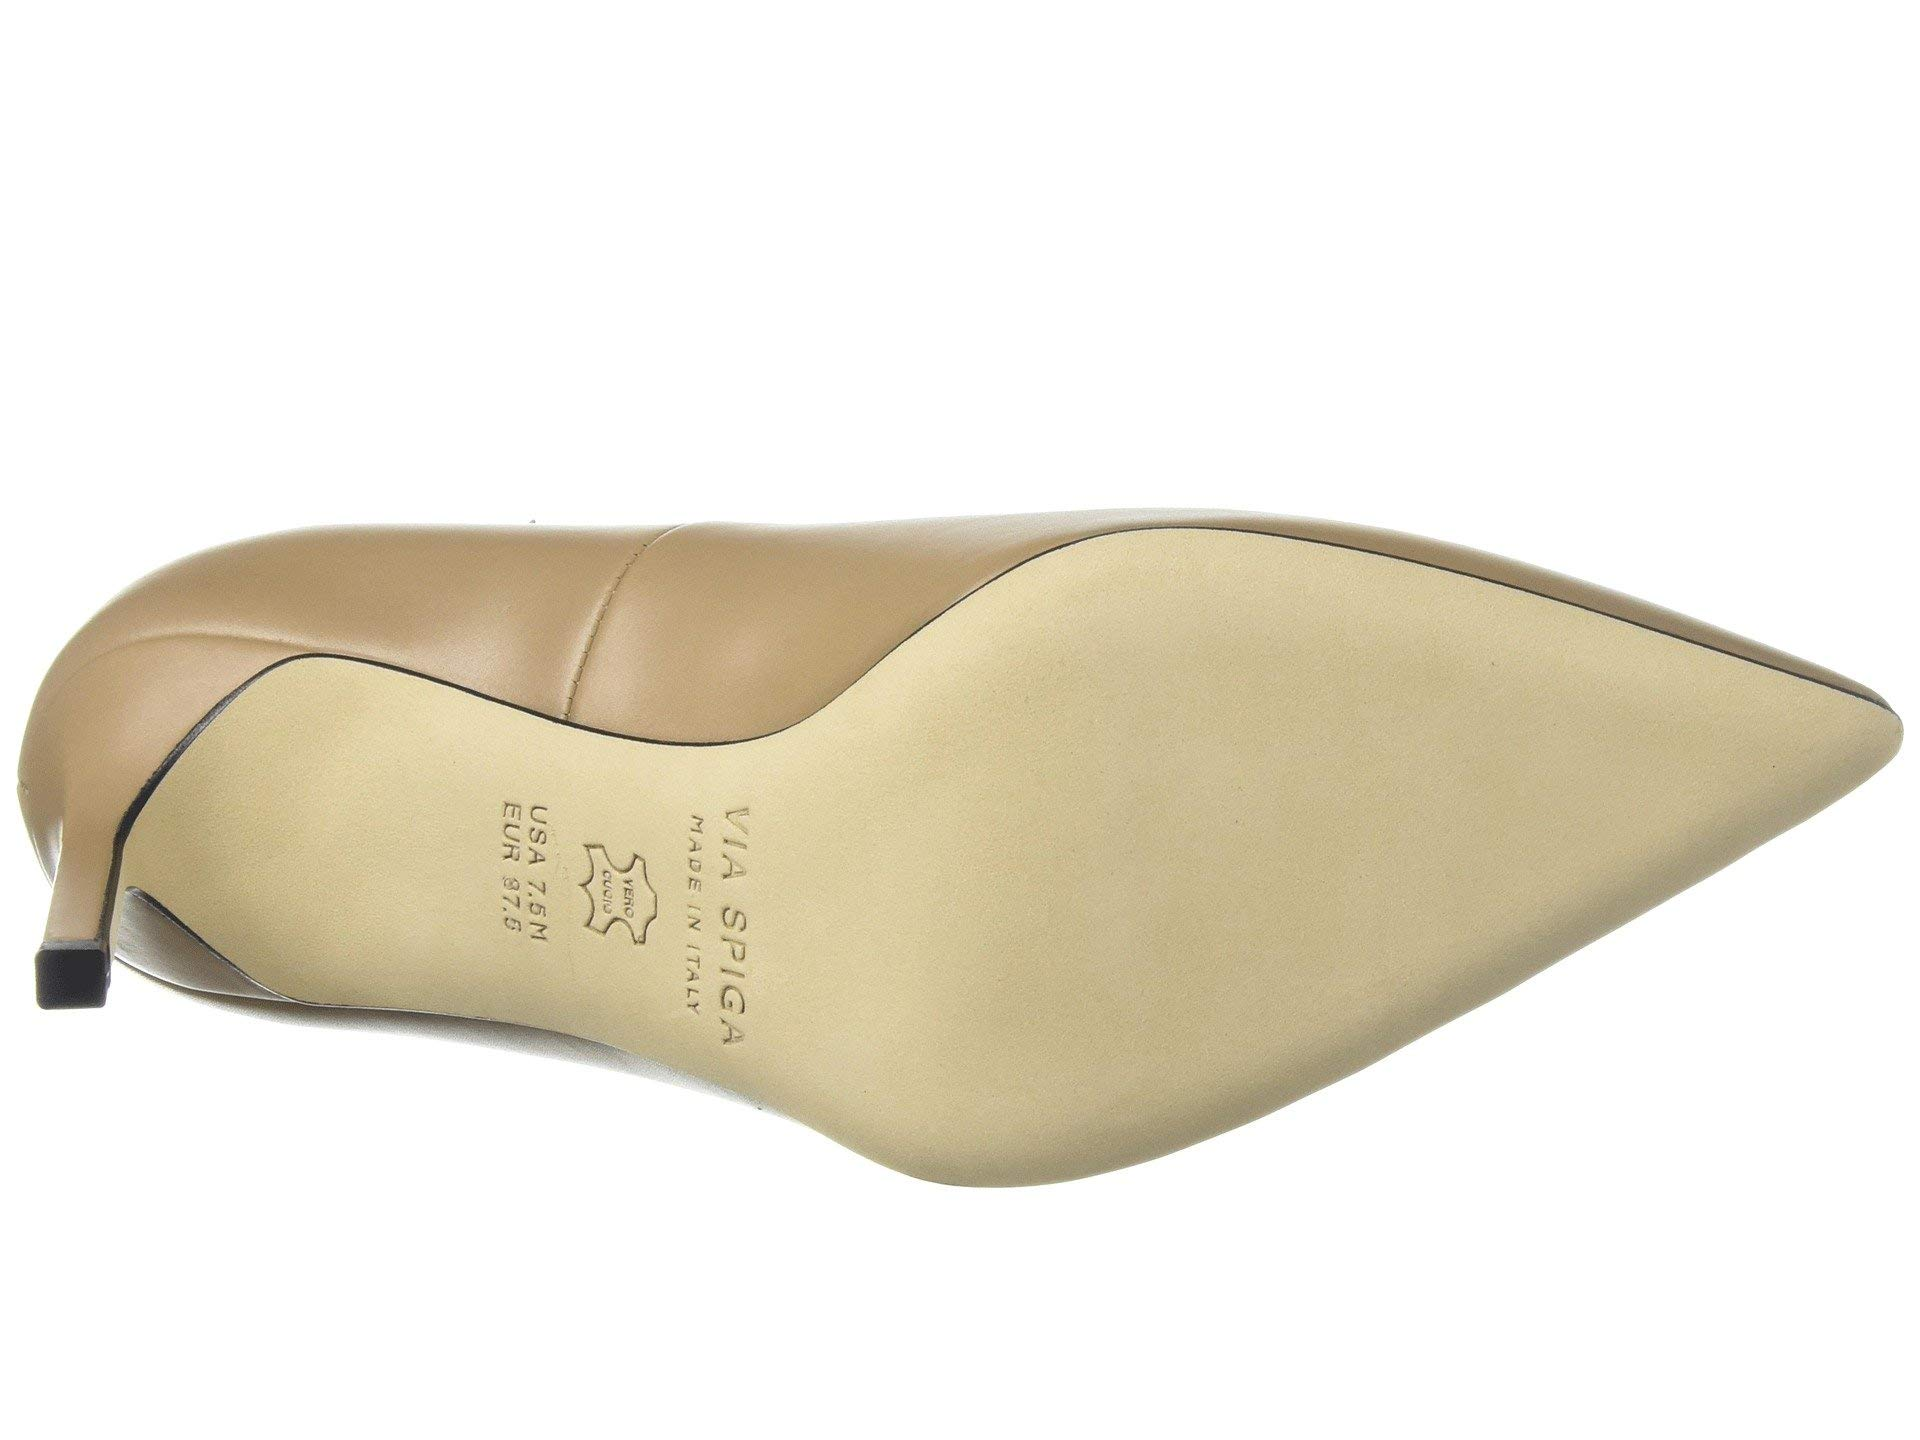exclude: (26, 241, 978, 935), (119, 889, 983, 1203)
